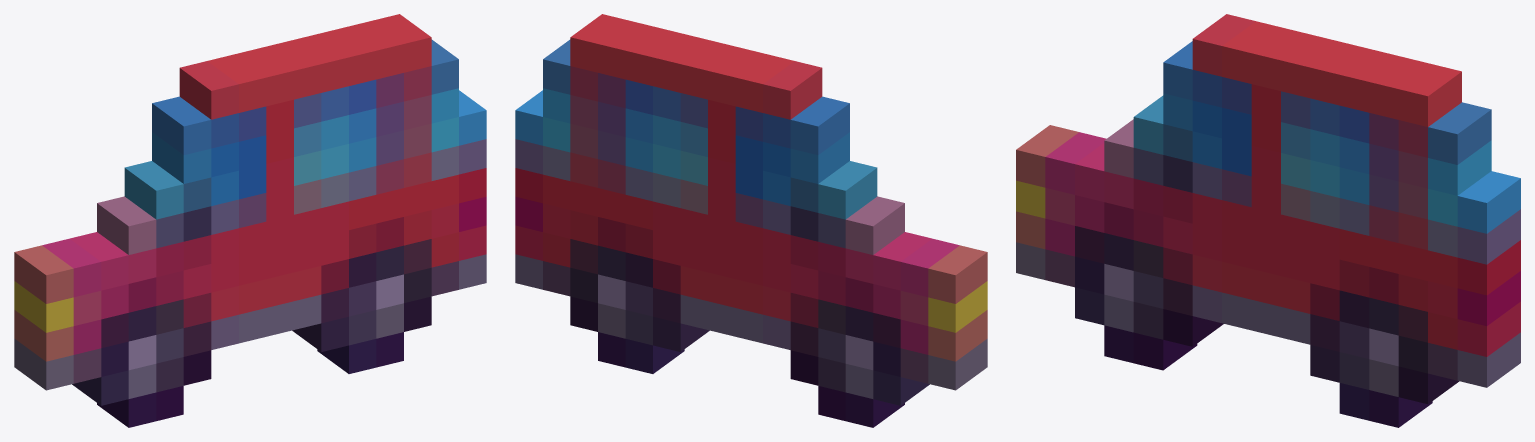
Rendered from automobile.glb.
The picture shows the model from 3 angles, left to right: view 1: azimuth 30°, elevation 25°; view 2: azimuth 150°, elevation 25°; view 3: azimuth 330°, elevation 25°; orthographic projection. The views are drawn at different scales.
Parts seen in each view (by area): view 1: prop; view 2: prop; view 3: prop.
Boxes of the visible parts, <box> form: prop: <box>14,14,486,427</box>; prop: <box>515,14,987,427</box>; prop: <box>1016,14,1520,427</box>.
Size of the model in its own units: 16 by 11 by 2.
